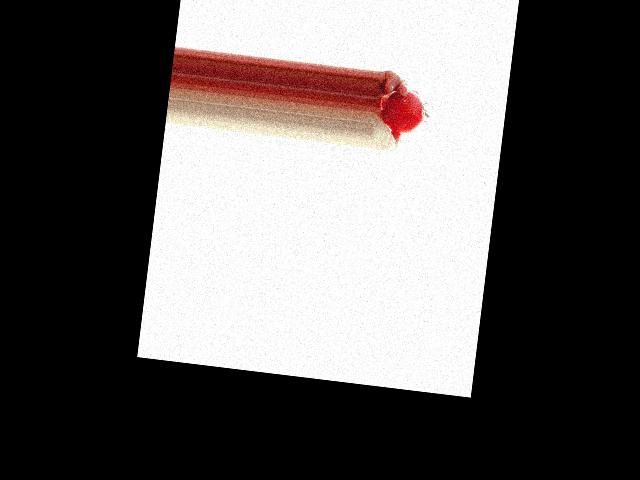tomato: (380, 86, 427, 135)
